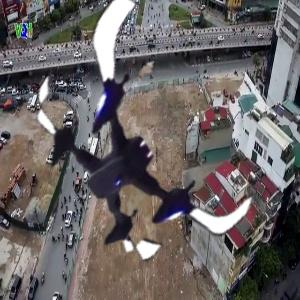drone: (14, 28, 269, 283)
